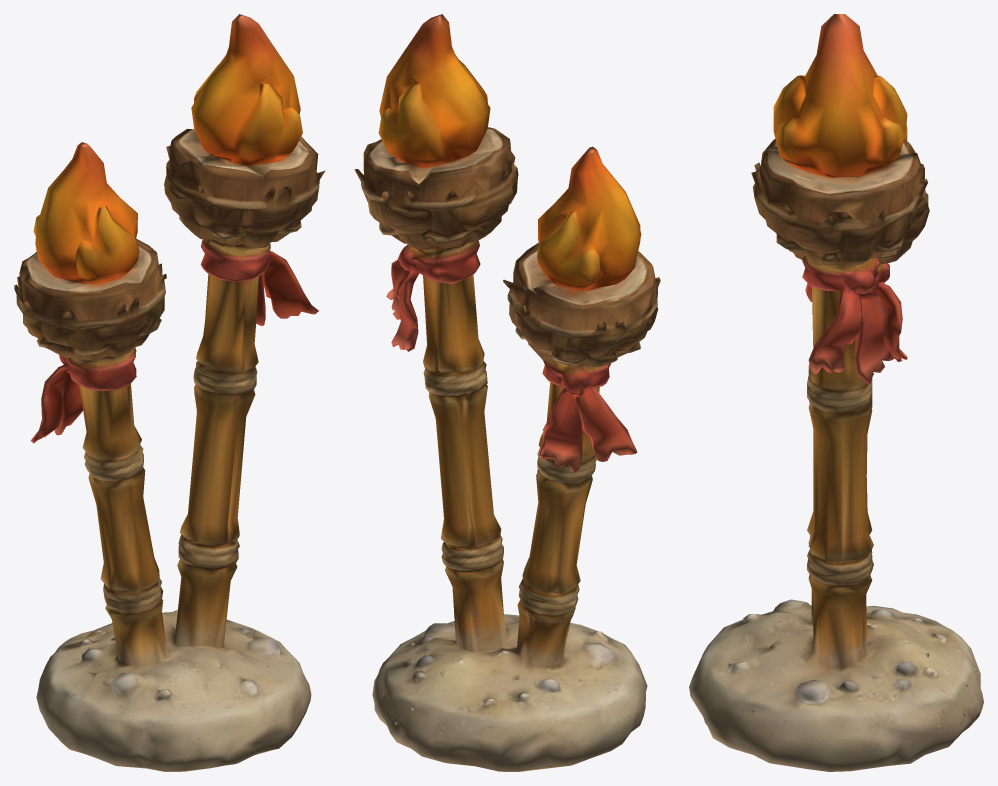
File: tiki_torch_pair.glb
3 renders of one model, left to right at view 1: azimuth 30°, elevation 25°; view 2: azimuth 150°, elevation 25°; view 3: azimuth 270°, elevation 25°, orthographic. The views are drawn at different scales.
Visible parts, largest first — view 1: tiki_torch_pair; view 2: tiki_torch_pair; view 3: tiki_torch_pair.
Part boxes in pixels (left/top/right/bottom): tiki_torch_pair: left=14, top=14, right=325, bottom=771; tiki_torch_pair: left=354, top=14, right=660, bottom=771; tiki_torch_pair: left=689, top=14, right=983, bottom=771.
Size of the model in its own units: 4.78 by 11 by 3.98.
1 material, 1 textured.
